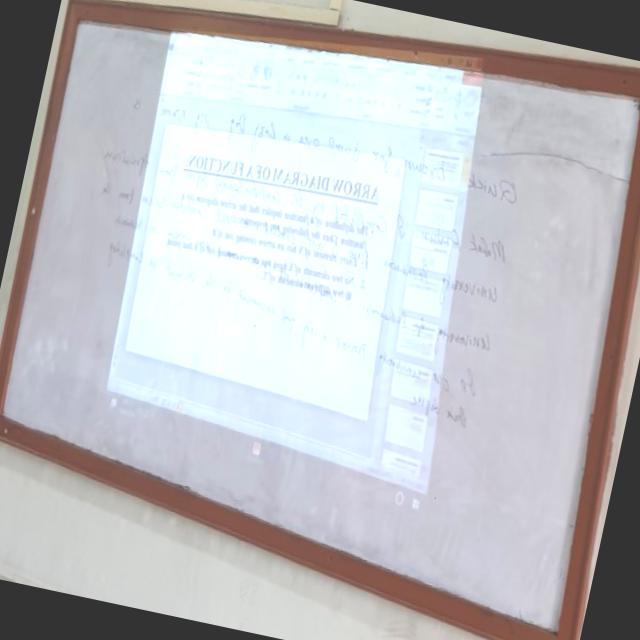Slide: (99, 17, 484, 517)
White-board: (0, 7, 640, 640)
